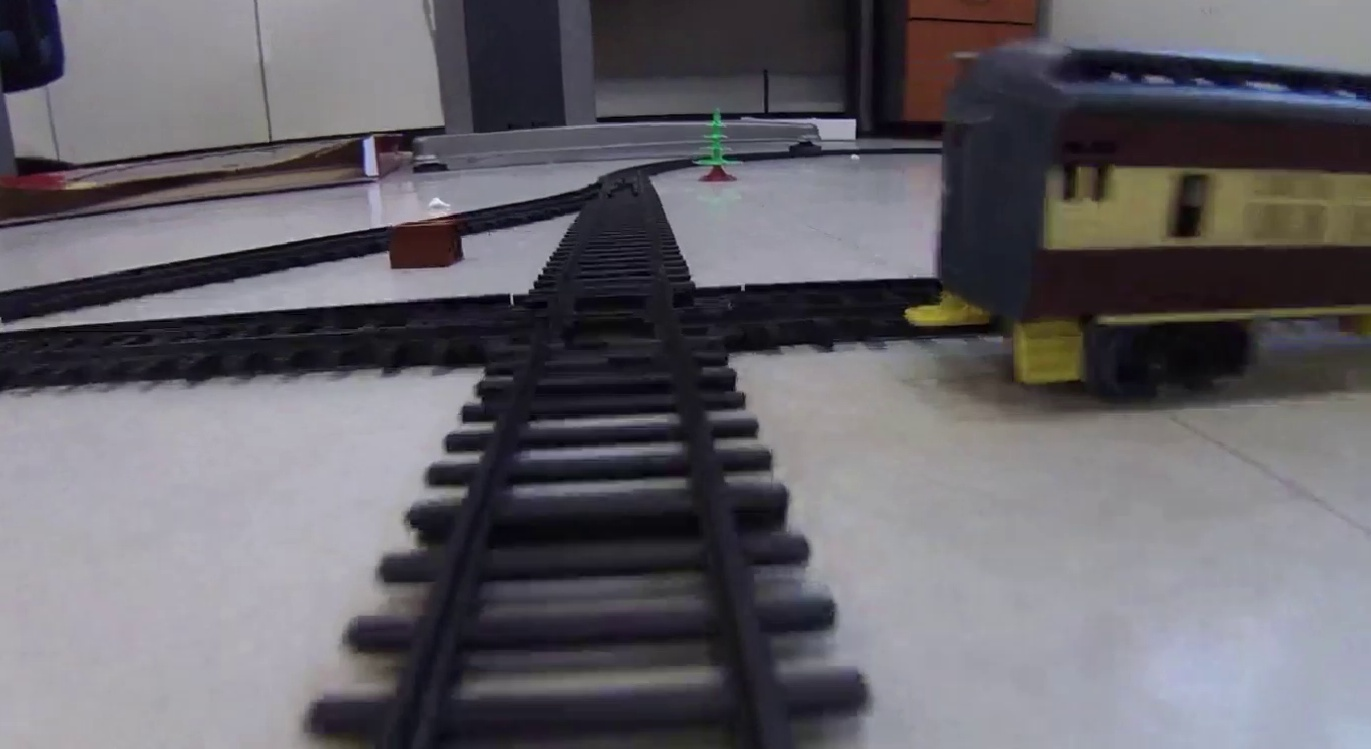box: (389, 223, 462, 267)
tree: (693, 108, 746, 183)
